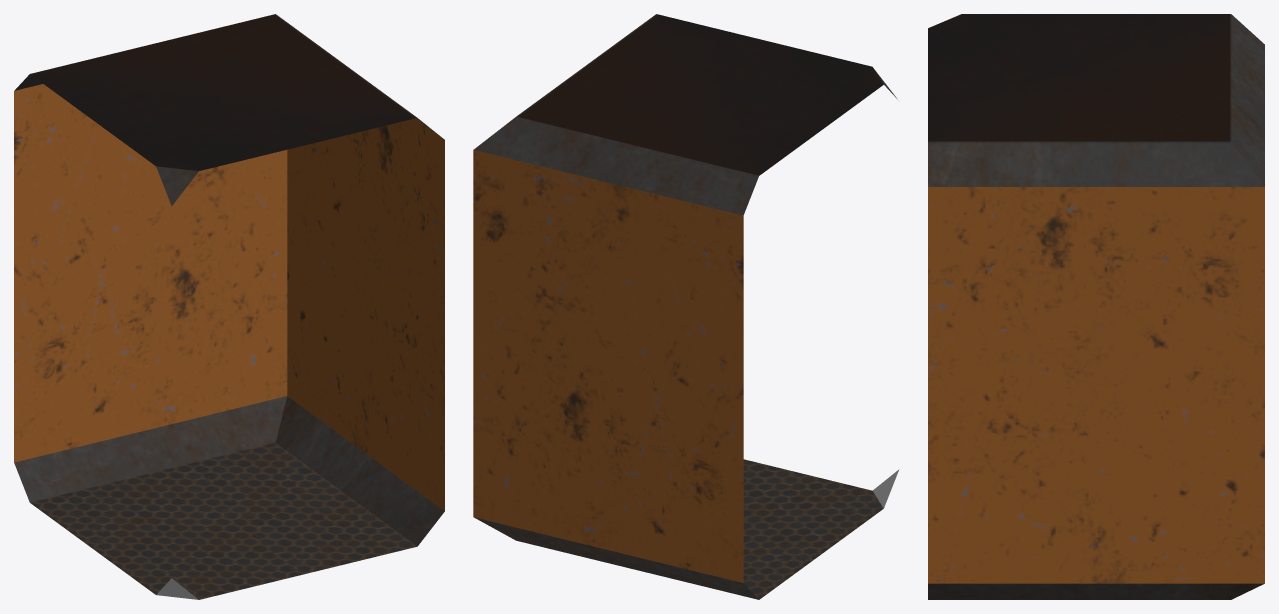
The model's file is FloorCorner.fbx.
The picture shows the model from 3 angles, left to right: view 1: azimuth 30°, elevation 25°; view 2: azimuth 150°, elevation 25°; view 3: azimuth 270°, elevation 25°; orthographic projection. The views are drawn at different scales.
Parts seen in each view (by area): view 1: FloorCorner; view 2: FloorCorner; view 3: FloorCorner.
Part boxes in pixels (x1=…): FloorCorner: x1=14, y1=14, x2=444, y2=599; FloorCorner: x1=473, y1=14, x2=899, y2=599; FloorCorner: x1=928, y1=14, x2=1264, y2=599.
Size of the model in its own units: 200 by 300 by 200.
Materials: 1 (1 with a texture image).
